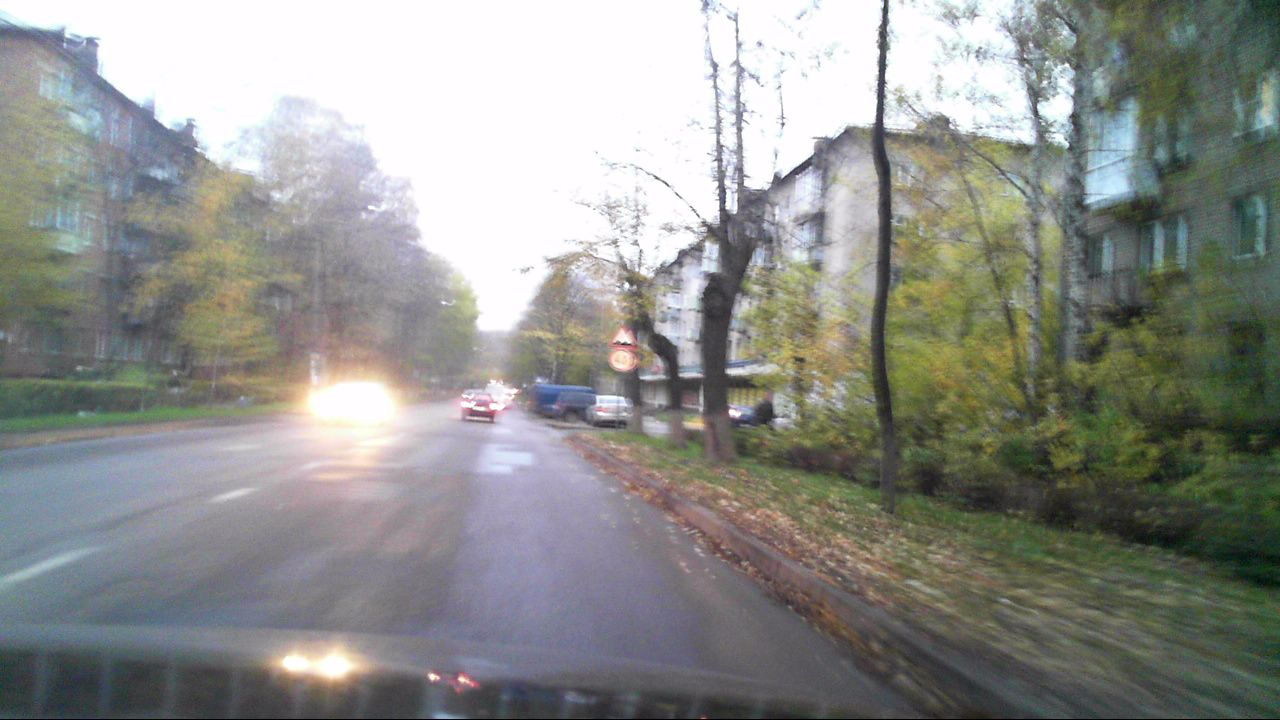speed_warning_40: (610, 349, 633, 372)
